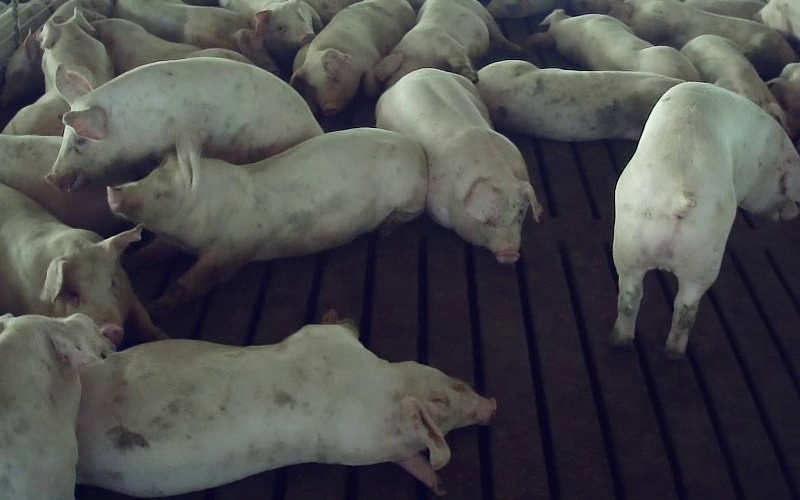pig: (79, 324, 495, 496), (108, 129, 427, 308), (611, 83, 799, 357), (48, 57, 321, 190), (376, 68, 540, 261), (477, 60, 680, 141), (609, 0, 796, 79), (365, 0, 517, 94), (3, 12, 113, 135), (528, 9, 701, 80), (115, 0, 276, 71), (680, 35, 786, 127), (90, 18, 253, 74), (219, 0, 322, 67)
